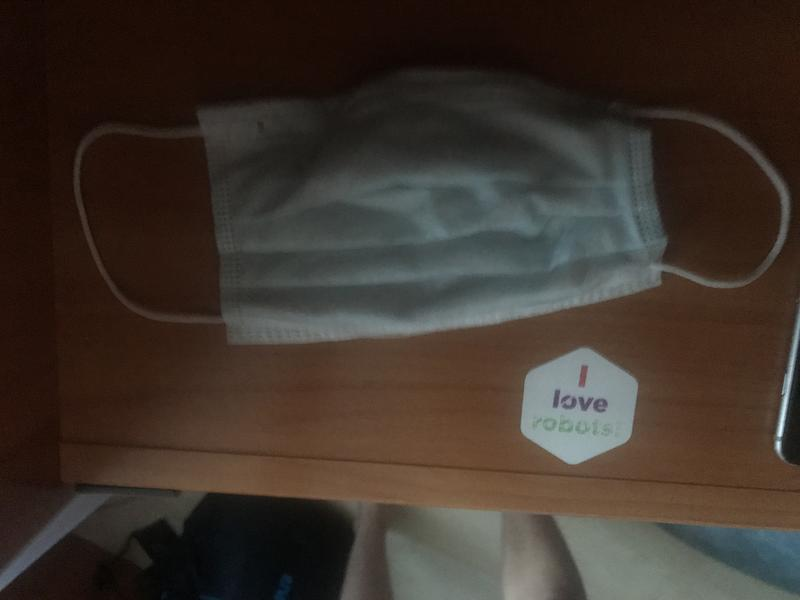medical_mask: (70, 70, 791, 342)
